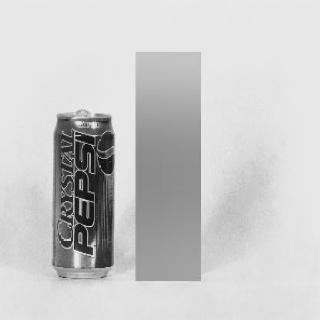alumunium_can: (52, 109, 116, 281)
